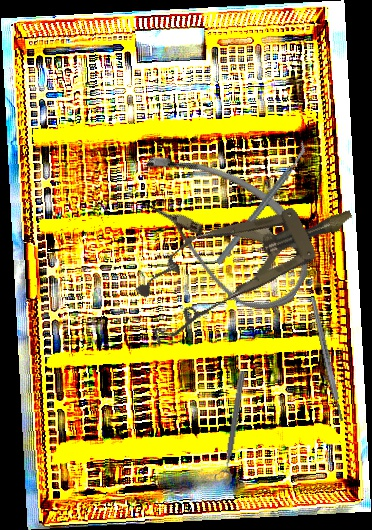Cannula: (109, 132, 333, 327)
Chopper: (185, 139, 337, 266)
Fixation Ring: (212, 369, 249, 486)
Scalpel Handle: (309, 297, 346, 423)
Speculum: (123, 173, 370, 348)
